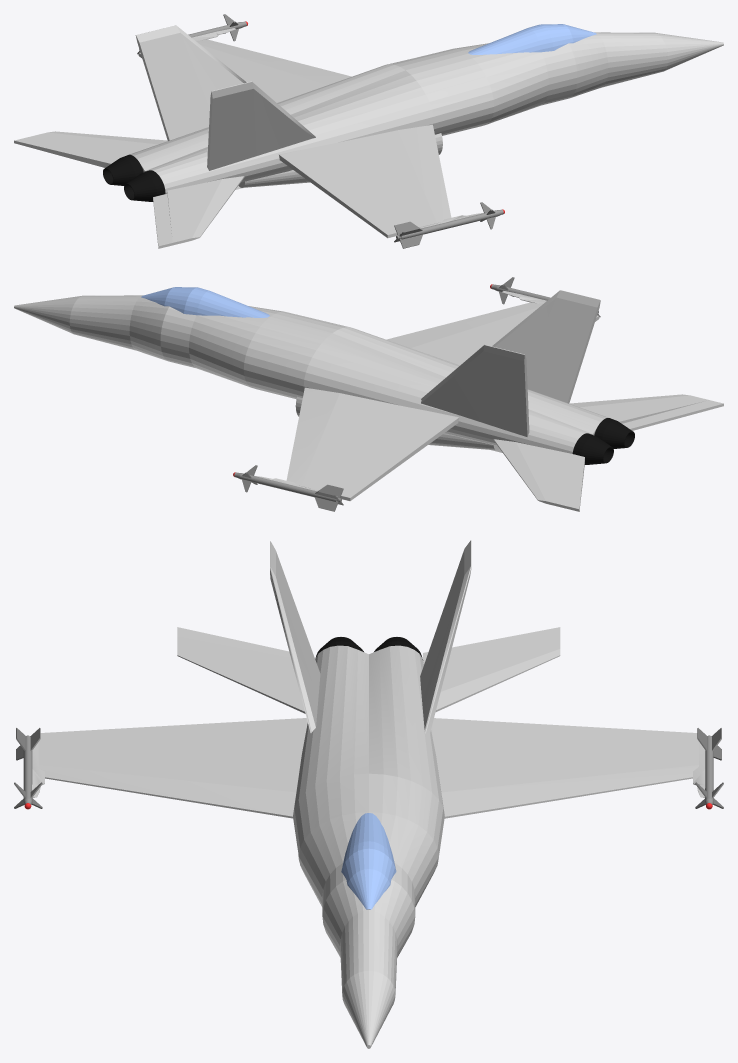
The picture shows the model from 3 angles, top to bottom: view 1: azimuth 30°, elevation 25°; view 2: azimuth 150°, elevation 25°; view 3: azimuth 270°, elevation 25°; orthographic projection. The views are drawn at different scales.
Parts seen in each view (by area): view 1: fuselage, main wing, vert stabil l, rear horz, vert stabil r, dome, rear thrust r, rear thrust l, intake r, Cylinder, Cube.003; view 2: fuselage, main wing, rear horz, vert stabil r, vert stabil l, dome, rear thrust l, rear thrust r, intake l, Cylinder.001, Cube.004; view 3: main wing, fuselage, rear horz, dome, vert stabil l, vert stabil r.
Part boxes in pixels (<box>): fuselage: <box>130,32,723,193</box>; main wing: <box>138,39,451,238</box>; vert stabil l: <box>135,25,246,140</box>; rear horz: <box>14,131,244,248</box>; vert stabil r: <box>207,81,315,170</box>; dome: <box>468,24,596,54</box>; rear thrust r: <box>124,170,165,201</box>; rear thrust l: <box>103,154,143,185</box>; intake r: <box>238,133,442,187</box>; Cylinder: <box>396,209,503,239</box>; Cube.003: <box>394,221,422,248</box>; fuselage: <box>14,295,608,453</box>; main wing: <box>286,302,599,500</box>; rear horz: <box>493,394,723,511</box>; vert stabil r: <box>492,290,600,403</box>; vert stabil l: <box>421,344,529,436</box>; dome: <box>141,287,269,317</box>; rear thrust l: <box>572,433,613,464</box>; rear thrust r: <box>594,418,634,448</box>; intake l: <box>295,396,499,450</box>; Cylinder.001: <box>234,472,341,502</box>; Cube.004: <box>314,484,343,511</box>; main wing: <box>38,718,698,818</box>; fuselage: <box>293,645,444,1048</box>; rear horz: <box>177,627,560,713</box>; dome: <box>341,813,396,909</box>; vert stabil l: <box>420,540,471,735</box>; vert stabil r: <box>270,541,320,732</box>.
Size of the model in its own units: 2.79 by 0.5777 by 2.03.
